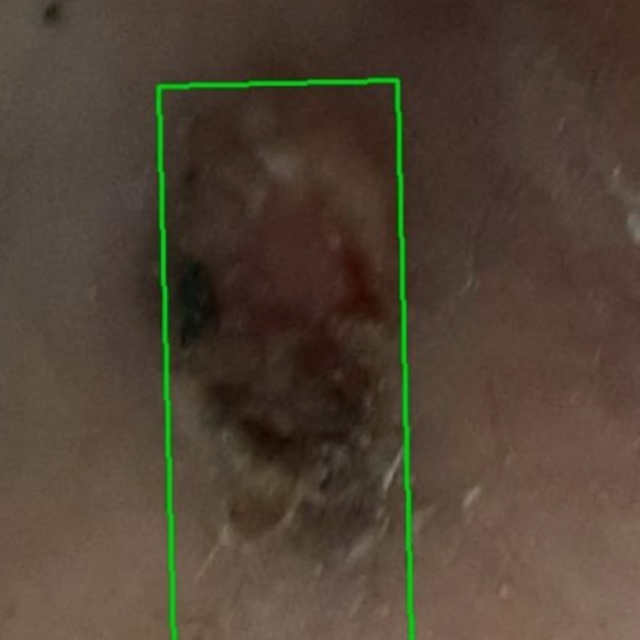Eczema: (159, 80, 412, 639)
